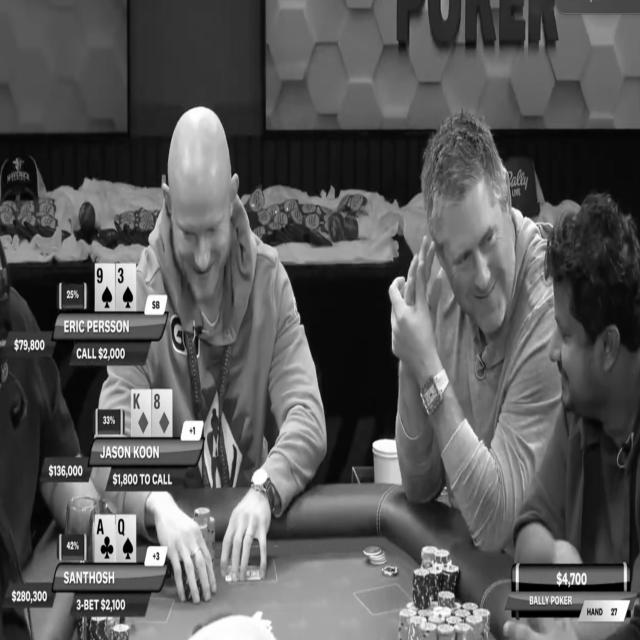3S: (116, 264, 136, 310)
8D: (153, 389, 171, 435)
9S: (95, 265, 115, 311)
AC: (95, 515, 115, 562)
KD: (132, 389, 152, 436)
QS: (116, 515, 136, 562)
